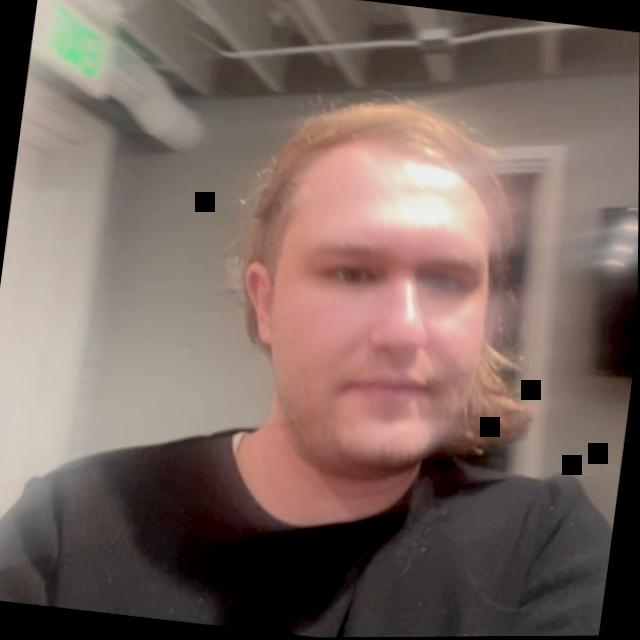NO-Mask: (231, 89, 569, 572)
